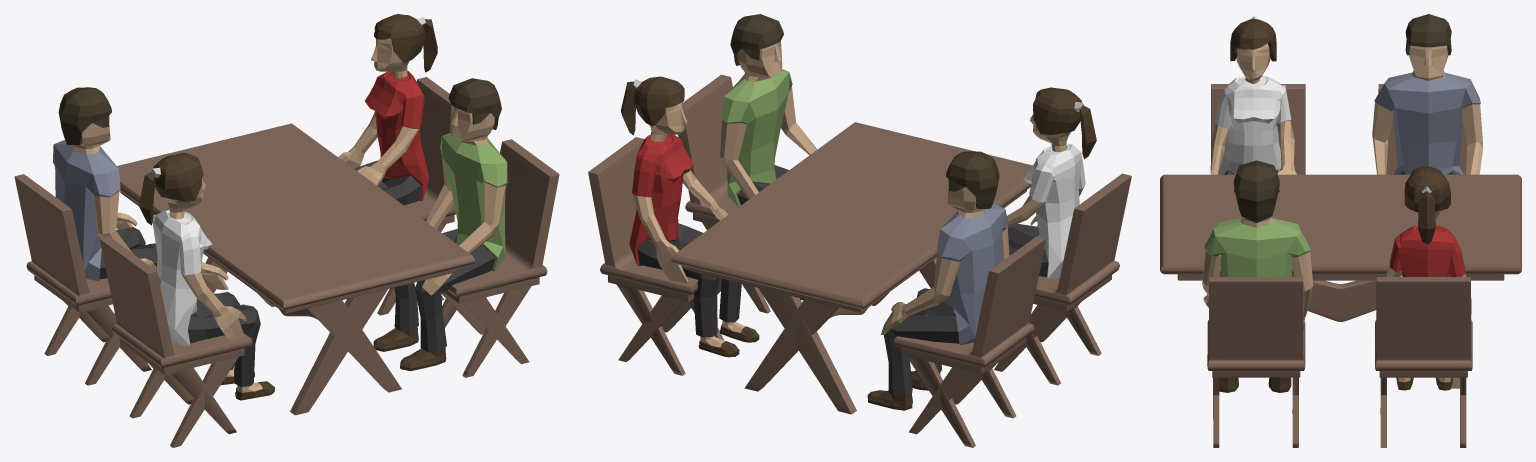
File: 49 Table_People.fbx
3 renders of one model, left to right at view 1: azimuth 30°, elevation 25°; view 2: azimuth 150°, elevation 25°; view 3: azimuth 270°, elevation 25°, orthographic.
Parts seen in each view (by area): view 1: Table_People; view 2: Table_People; view 3: Table_People.
Part boxes in pixels (<box>): Table_People: <box>14,14,559,447</box>; Table_People: <box>588,14,1131,447</box>; Table_People: <box>1160,14,1521,447</box>.
Bounding box in the file's own units: 47.5 × 30.36 × 36.79.
